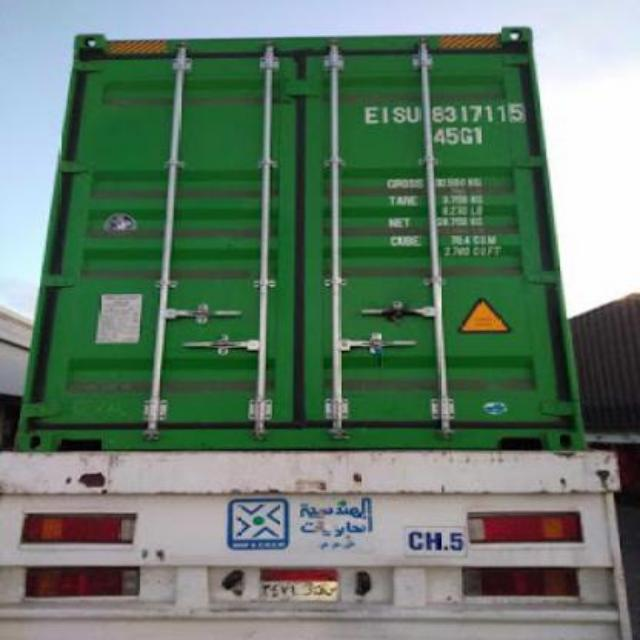1: (494, 100, 508, 124), (456, 98, 469, 122), (482, 100, 494, 124)
3: (444, 104, 458, 125)
5: (510, 102, 528, 128)
7: (468, 102, 482, 126)
8: (432, 98, 444, 120)
E: (360, 104, 380, 130)
I: (376, 102, 394, 128)
S: (392, 98, 406, 132)
U: (406, 100, 424, 128)
